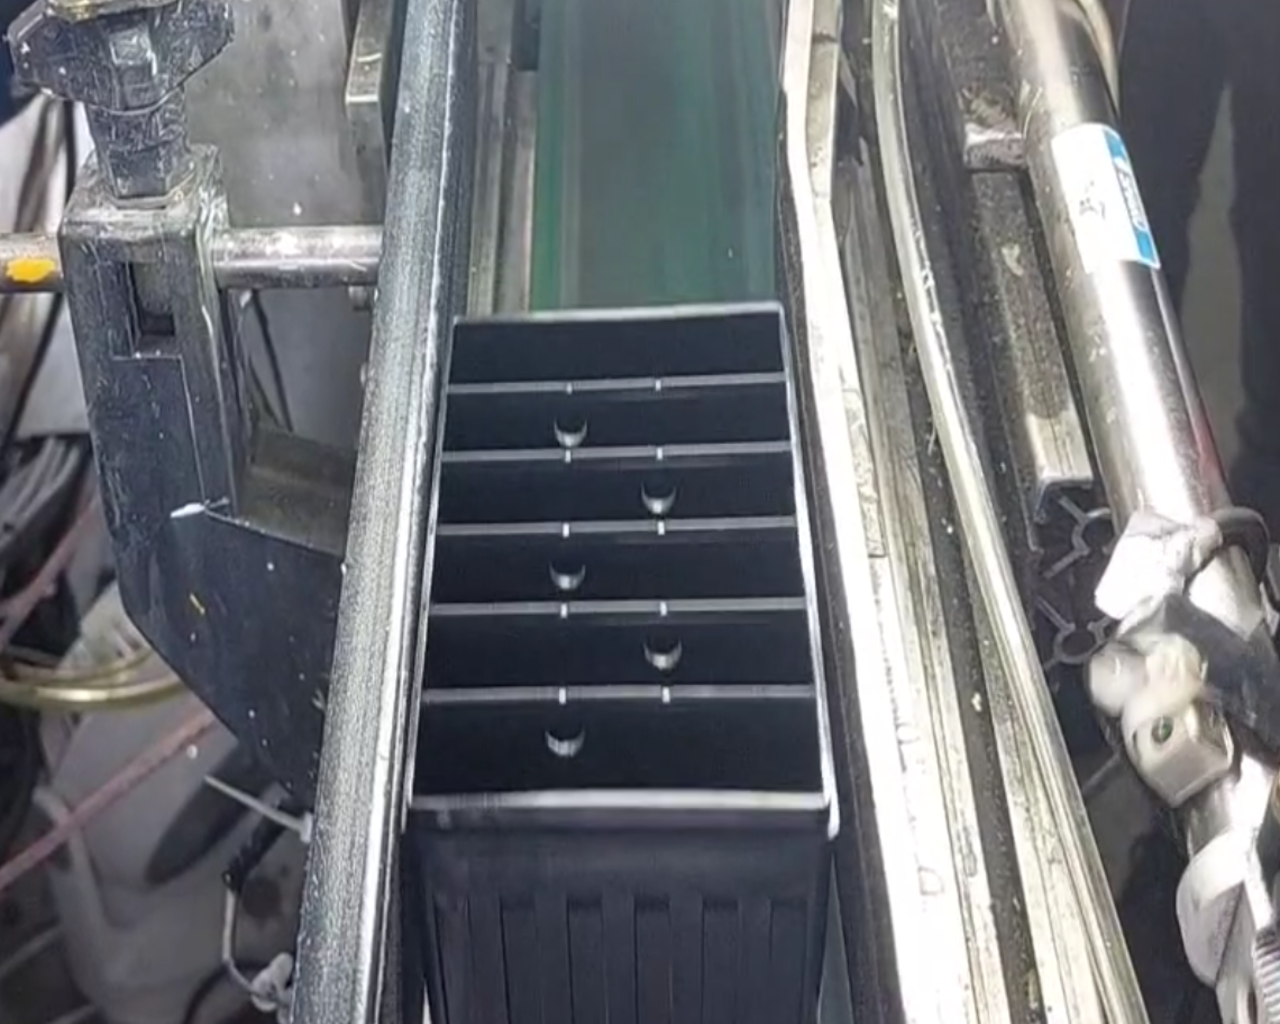box: (383, 280, 857, 850)
round: (520, 532, 606, 604), (620, 459, 695, 531), (523, 699, 599, 767), (628, 616, 702, 684), (536, 388, 605, 457)
